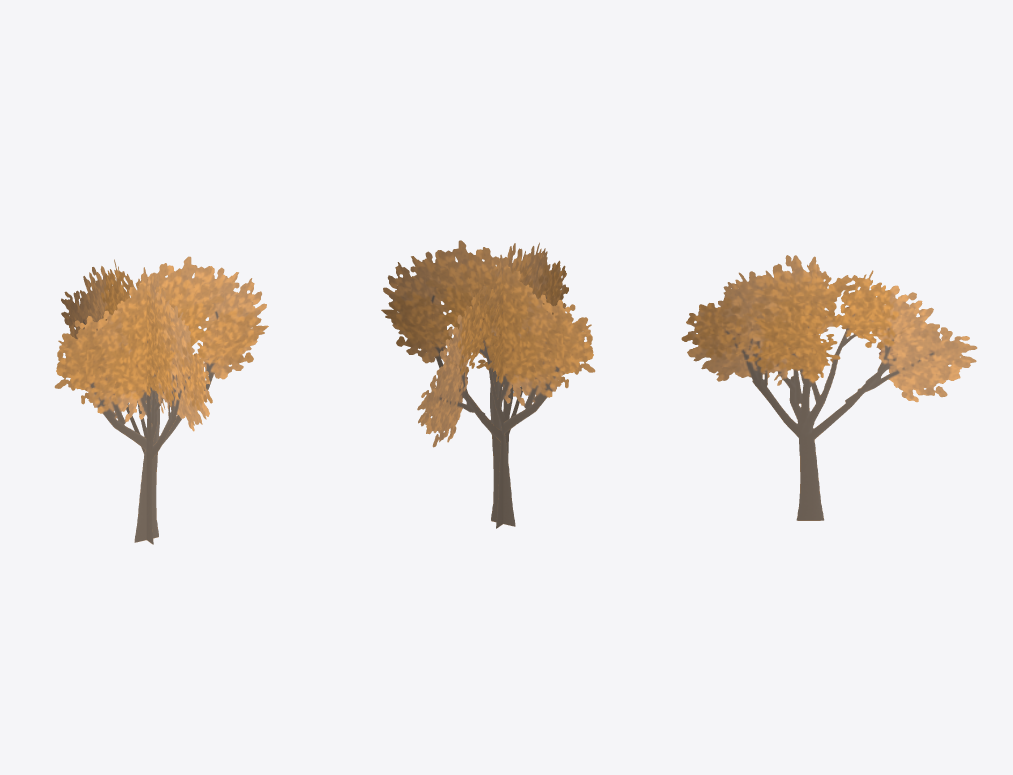
File: maple_autumn_1_far.glb
3 renders of one model, left to right at view 1: azimuth 30°, elevation 25°; view 2: azimuth 150°, elevation 25°; view 3: azimuth 270°, elevation 25°, orthographic. The views are drawn at different scales.
Visible parts, largest first — view 1: maple_autumn_1_far; view 2: maple_autumn_1_far; view 3: maple_autumn_1_far.
Part boxes in pixels (left/top/right/bottom): maple_autumn_1_far: left=54, top=256, right=268, bottom=544; maple_autumn_1_far: left=381, top=240, right=595, bottom=528; maple_autumn_1_far: left=681, top=255, right=977, bottom=520.
Bounding box in the file's own units: 10 × 20 × 10.
1 material, 1 textured.
